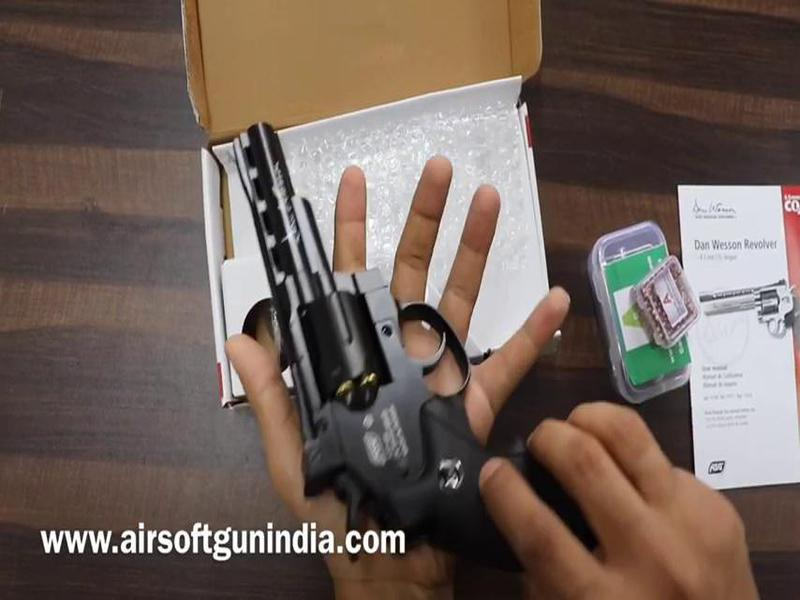Revolver: (207, 100, 574, 567)
